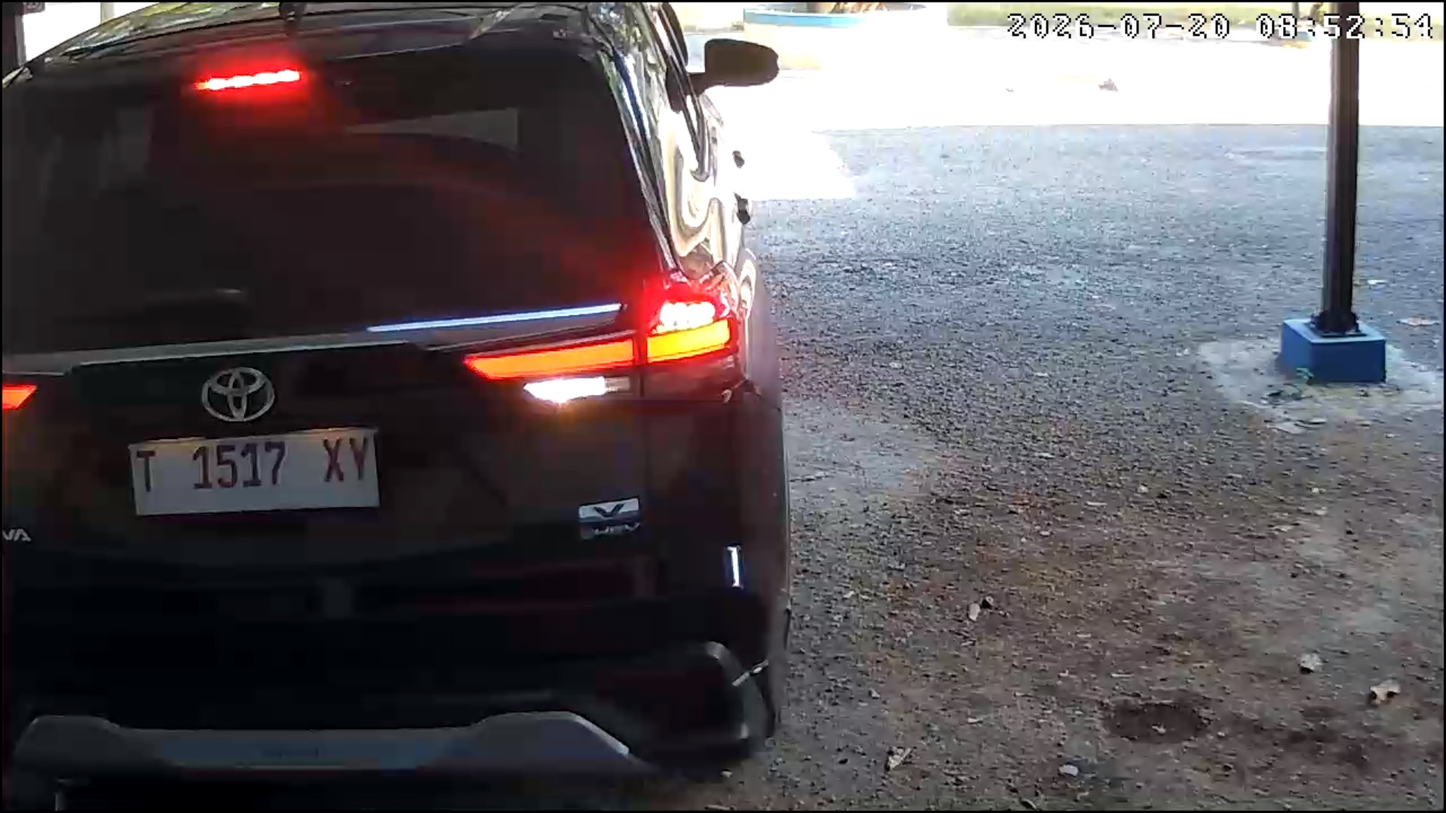plat nomor: (125, 424, 386, 525)
